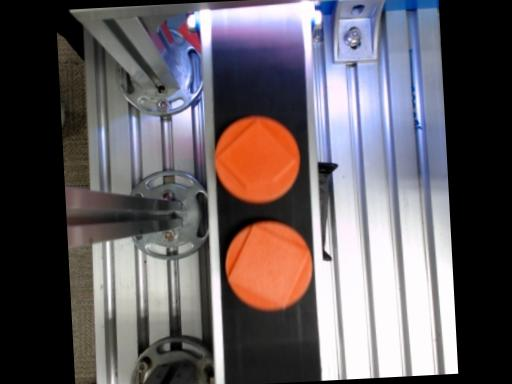Orange_Waper: (224, 222, 311, 311), (214, 117, 298, 203)
